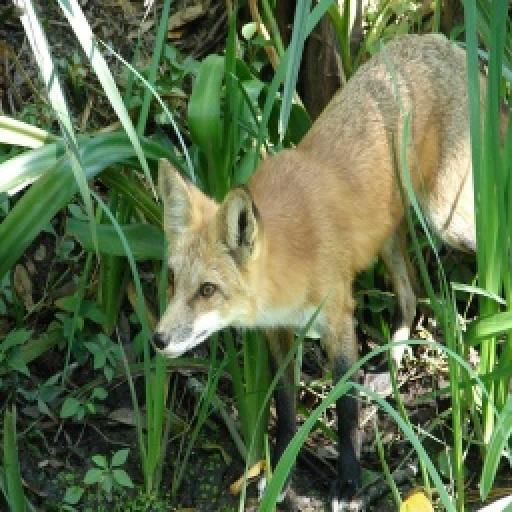zorro: (152, 34, 476, 380)
